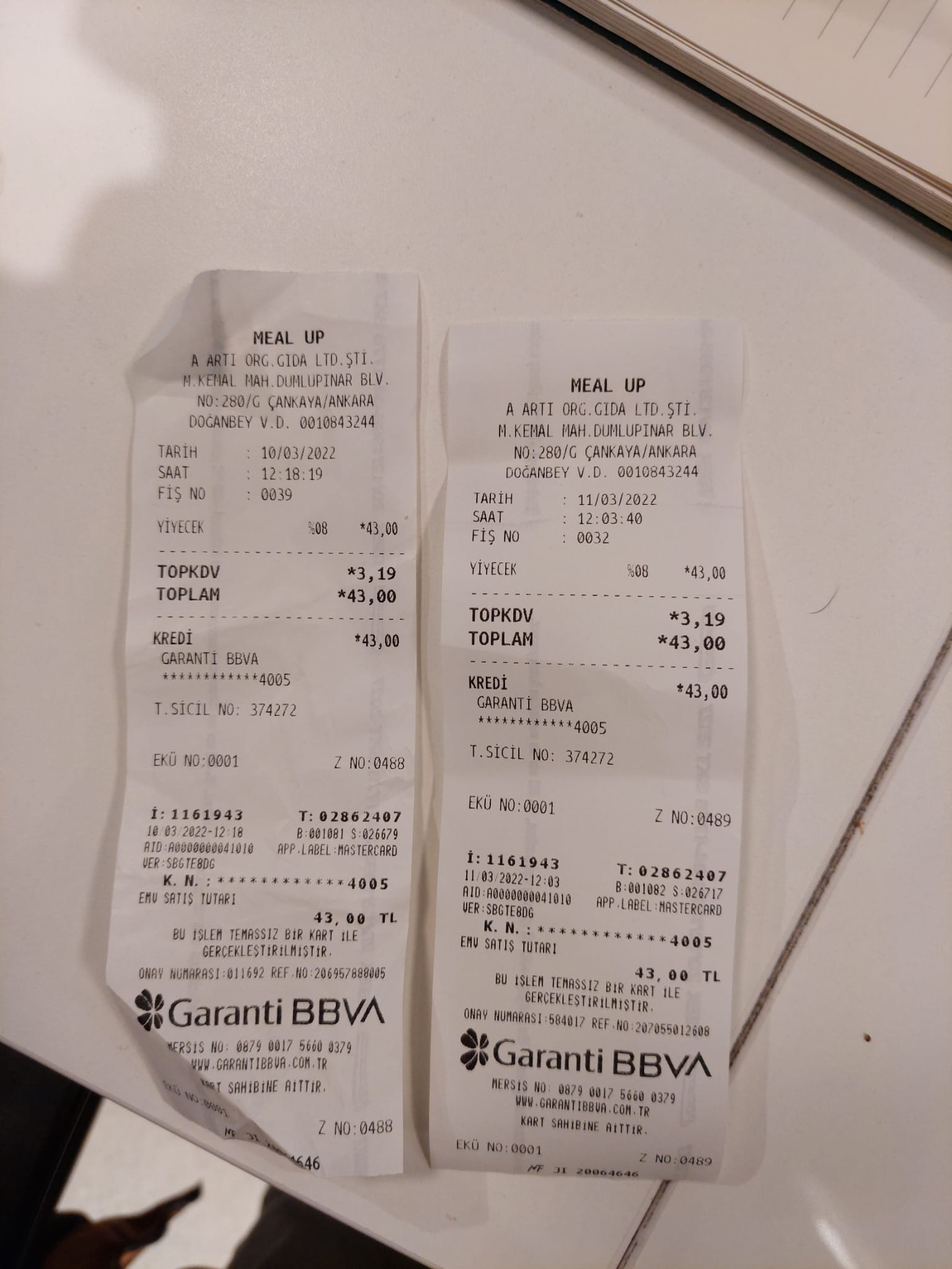date: (667, 630, 735, 660), (345, 584, 401, 612)
price: (257, 439, 338, 466), (572, 489, 660, 510)
workplace: (491, 368, 718, 461), (174, 323, 395, 412)
